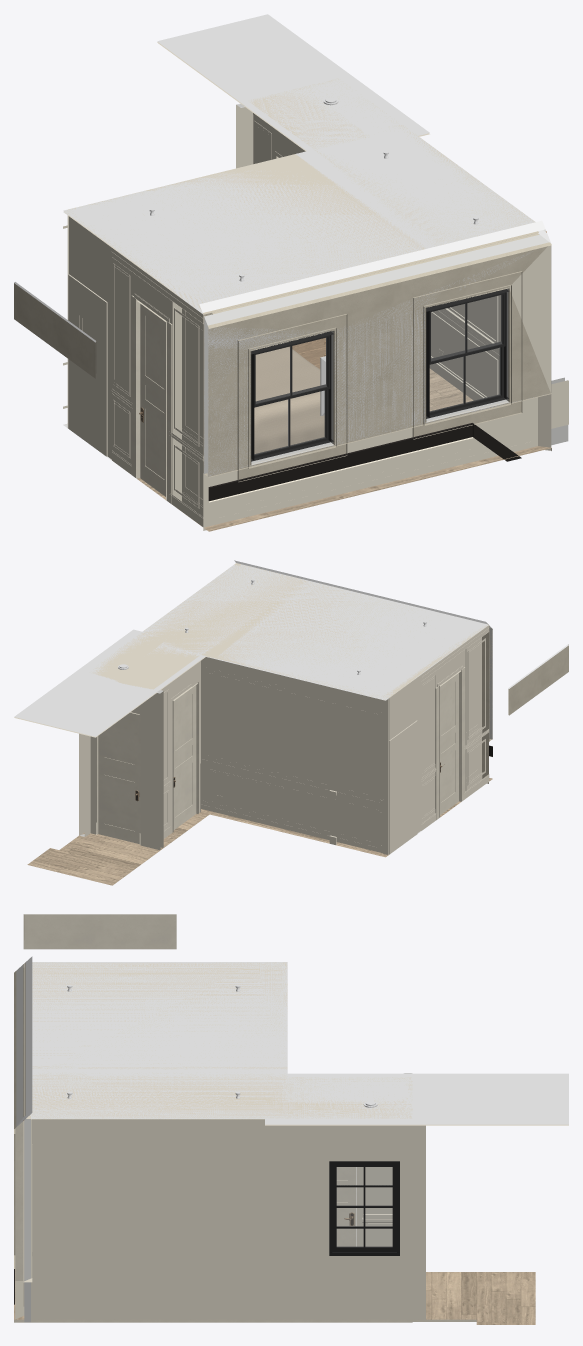
The model's file is blue-bedroom-ff1de9f96d07.glb.
The picture shows the model from 3 angles, top to bottom: view 1: azimuth 30°, elevation 25°; view 2: azimuth 150°, elevation 25°; view 3: azimuth 270°, elevation 25°; orthographic projection. The views are drawn at different scales.
Parts seen in each view (by area): view 1: blue-bedroom-9d91b47435c6fb33, blue-bedroom-bddaf205afbd60c0, blue-bedroom-e8793759323e04f0, blue-bedroom-df3e1f21720b0c39, blue-bedroom-look-9d91b47435c6fb33, blue-bedroom-ed5fdcd3ee9c0dd5, blue-bedroom-3c3de67e8dd93323, blue-bedroom-649b3532e9781727, blue-bedroom-2f7d8eff34a2c180, blue-bedroom-e786e1fd679c6cac, blue-bedroom-64753ebcb3824a84, blue-bedroom-ead09a0b3f9e3bd9 (+17 smaller); view 2: blue-bedroom-6e269356ae8bfd70, blue-bedroom-9d91b47435c6fb33, blue-bedroom-e8793759323e04f0, blue-bedroom-look-9d91b47435c6fb33, blue-bedroom-ed5fdcd3ee9c0dd5, blue-bedroom-dcc0092055abeaa8, blue-bedroom-look-eb02897c2e79e2b1, blue-bedroom-look-2575515a05775d9e, blue-bedroom-ead09a0b3f9e3bd9, blue-bedroom-c33a54857fb1d4db, blue-bedroom-3e649b0d114ae387, blue-bedroom-bf159a19de53e60e (+17 smaller); view 3: blue-bedroom-746250f96522f643, blue-bedroom-9d91b47435c6fb33, blue-bedroom-e8793759323e04f0, blue-bedroom-look-9d91b47435c6fb33, blue-bedroom-5035c6783c6505b3, blue-bedroom-look-2575515a05775d9e, blue-bedroom-look-3a4d9d62ecd7be1c, blue-bedroom-look-746250f96522f643, blue-bedroom-95684fa6df9df9bf, blue-bedroom-2575515a05775d9e, blue-bedroom-c33a54857fb1d4db, blue-bedroom-0a6e1f8a567f4490 (+2 smaller).
Boxes of the visible parts, x1,y1,x2,y2 form: blue-bedroom-9d91b47435c6fb33: (63, 78, 538, 314); blue-bedroom-bddaf205afbd60c0: (207, 242, 550, 476); blue-bedroom-e8793759323e04f0: (64, 78, 545, 312); blue-bedroom-df3e1f21720b0c39: (208, 243, 551, 476); blue-bedroom-look-9d91b47435c6fb33: (157, 14, 429, 151); blue-bedroom-ed5fdcd3ee9c0dd5: (67, 215, 181, 500); blue-bedroom-3c3de67e8dd93323: (251, 330, 333, 461); blue-bedroom-649b3532e9781727: (426, 289, 509, 418); blue-bedroom-2f7d8eff34a2c180: (203, 393, 551, 530); blue-bedroom-e786e1fd679c6cac: (254, 347, 324, 453); blue-bedroom-64753ebcb3824a84: (204, 234, 548, 476); blue-bedroom-ead09a0b3f9e3bd9: (68, 274, 107, 456); blue-bedroom-6e269356ae8bfd70: (201, 656, 389, 854); blue-bedroom-9d91b47435c6fb33: (84, 564, 488, 700); blue-bedroom-e8793759323e04f0: (92, 560, 488, 699); blue-bedroom-look-9d91b47435c6fb33: (14, 629, 205, 737); blue-bedroom-ed5fdcd3ee9c0dd5: (382, 641, 465, 854); blue-bedroom-dcc0092055abeaa8: (98, 712, 139, 843); blue-bedroom-look-eb02897c2e79e2b1: (90, 690, 163, 850); blue-bedroom-look-2575515a05775d9e: (27, 812, 209, 885); blue-bedroom-ead09a0b3f9e3bd9: (389, 720, 417, 854); blue-bedroom-c33a54857fb1d4db: (173, 685, 196, 829); blue-bedroom-3e649b0d114ae387: (465, 625, 488, 790); blue-bedroom-bf159a19de53e60e: (440, 673, 458, 814); blue-bedroom-746250f96522f643: (32, 1119, 412, 1319); blue-bedroom-9d91b47435c6fb33: (24, 962, 412, 1119); blue-bedroom-e8793759323e04f0: (25, 956, 412, 1118); blue-bedroom-look-9d91b47435c6fb33: (265, 1073, 568, 1125); blue-bedroom-5035c6783c6505b3: (329, 1161, 399, 1255); blue-bedroom-look-2575515a05775d9e: (412, 1272, 535, 1324); blue-bedroom-look-3a4d9d62ecd7be1c: (23, 914, 176, 949); blue-bedroom-look-746250f96522f643: (412, 1125, 425, 1319); blue-bedroom-95684fa6df9df9bf: (362, 1167, 392, 1246); blue-bedroom-2575515a05775d9e: (14, 1269, 412, 1322); blue-bedroom-c33a54857fb1d4db: (336, 1167, 356, 1246); blue-bedroom-0a6e1f8a567f4490: (15, 1121, 22, 1281).
Size of the model in its own units: 6.73 by 3.04 by 7.3.
37 materials, 9 textured.
